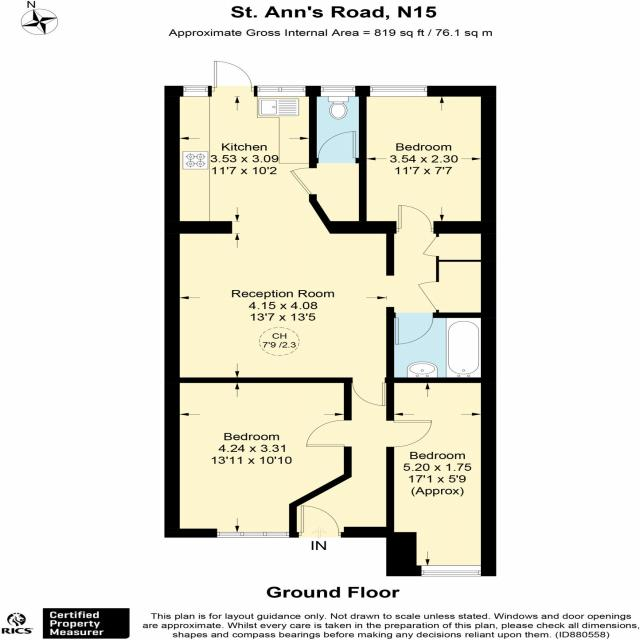DOOR: (210, 60, 255, 97), (298, 505, 342, 538), (394, 312, 435, 346), (306, 419, 353, 448), (316, 131, 358, 163), (386, 420, 432, 448), (394, 204, 435, 234), (289, 167, 317, 196)
ROOM: (164, 60, 397, 407), (164, 377, 352, 538), (386, 377, 496, 576), (358, 85, 497, 234)
WINDOW: (420, 565, 482, 577), (369, 85, 428, 97), (257, 85, 306, 97), (216, 532, 290, 538), (320, 85, 356, 97), (183, 85, 209, 97)
